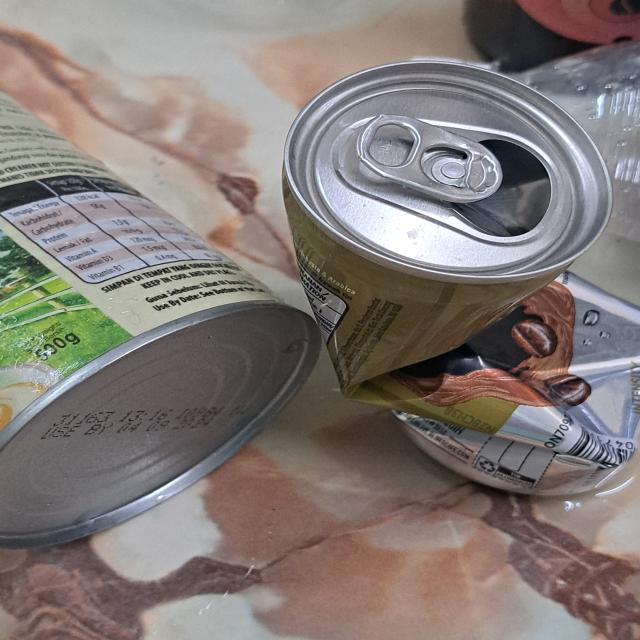can: (277, 62, 640, 498), (0, 86, 321, 547)
pop tab: (358, 114, 506, 202)
